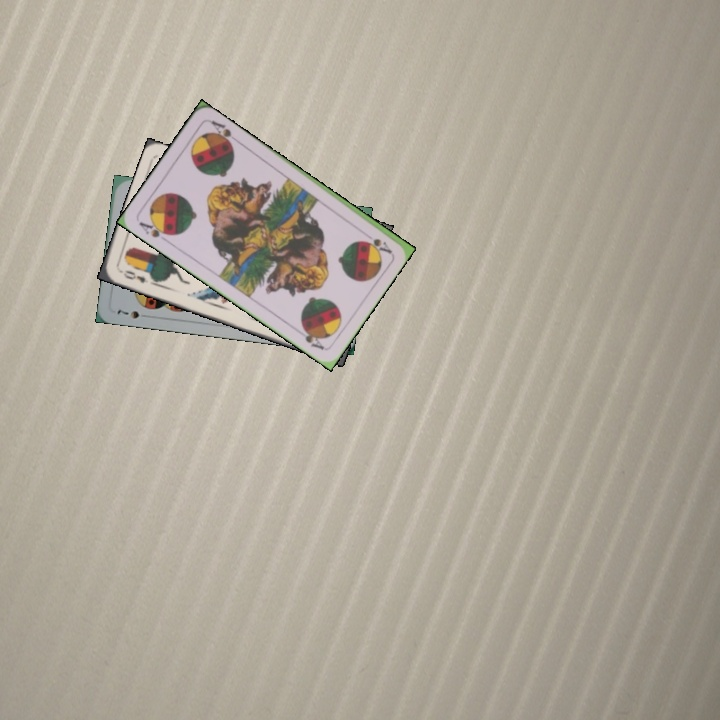EO: (116, 266, 151, 286)
S7: (113, 306, 152, 321)
SA: (135, 217, 174, 245), (358, 227, 394, 256)
